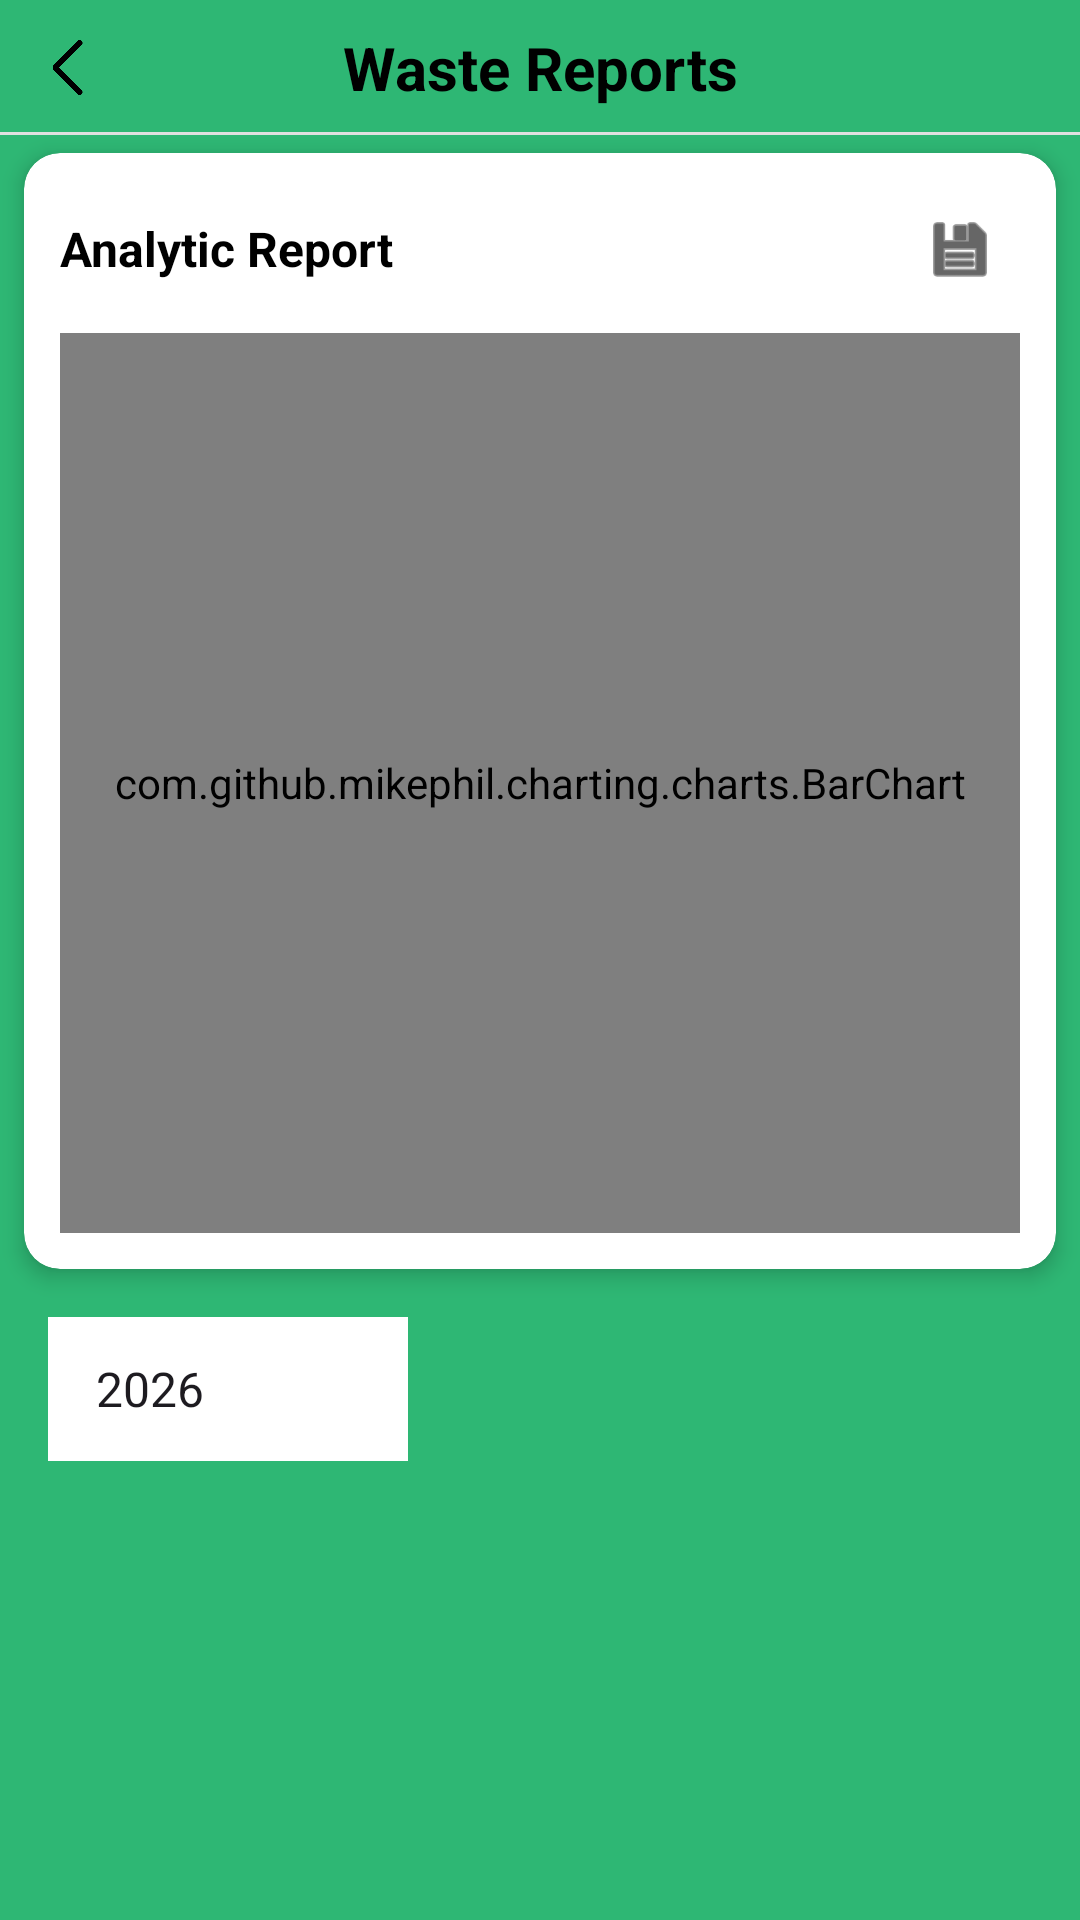

Screen size 1080px x 1920px. Icon name, then its box in pixels as (x1, y1, x2, y2):
arrowback: (53, 40, 83, 95)
